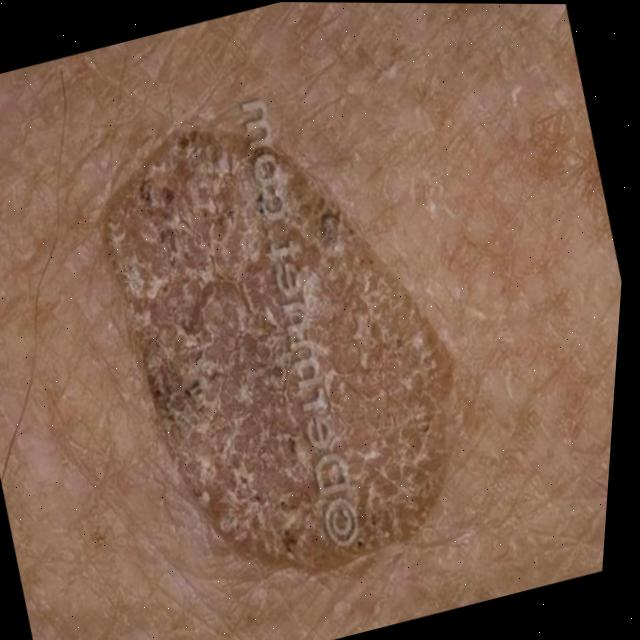Eczema: (45, 75, 512, 628)
